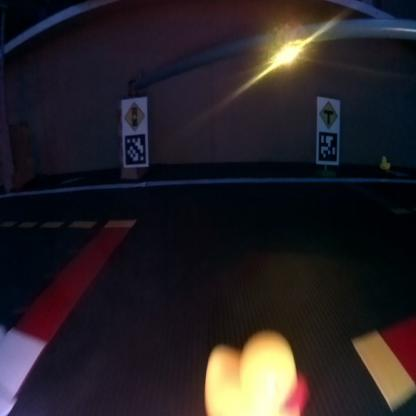duckie: (197, 311, 322, 415)
